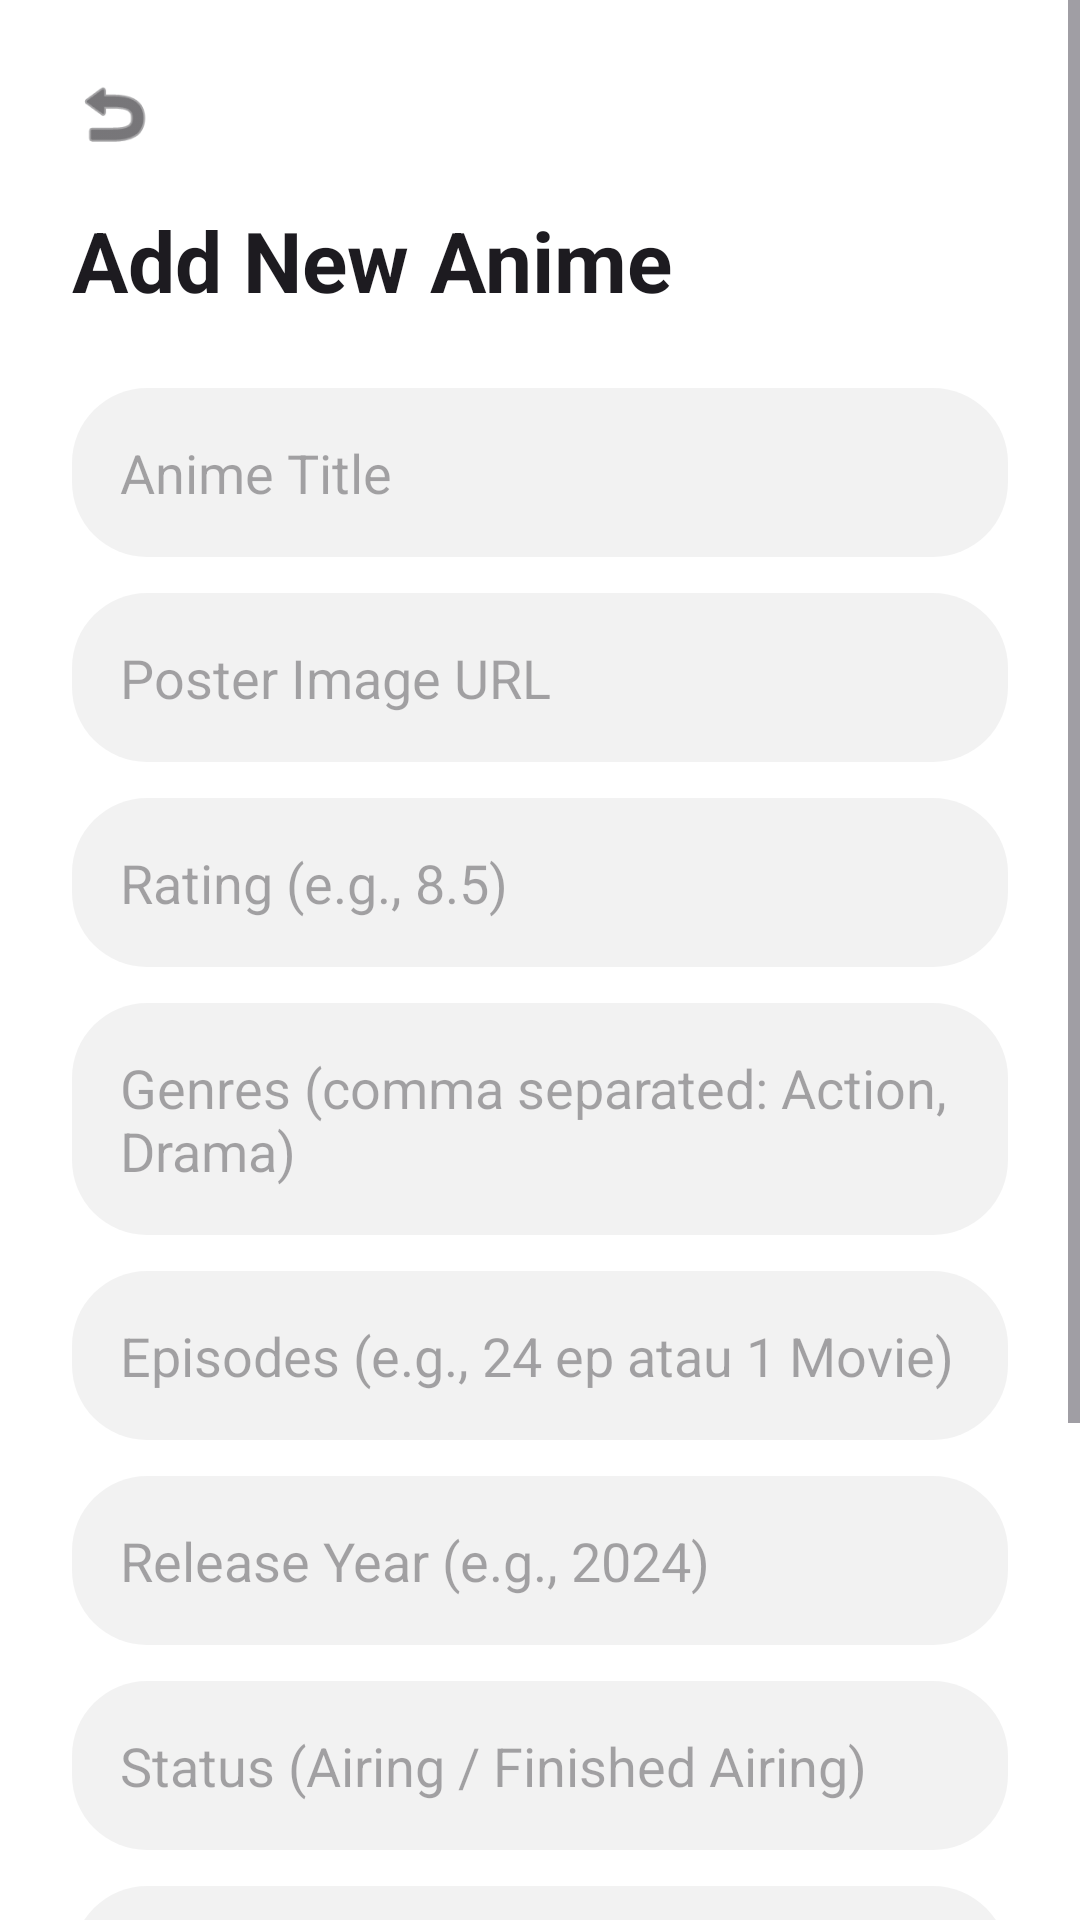

Icon click points for this 1080x1920 phone screenshot, format point (x, y):
revert: point (115, 114)
